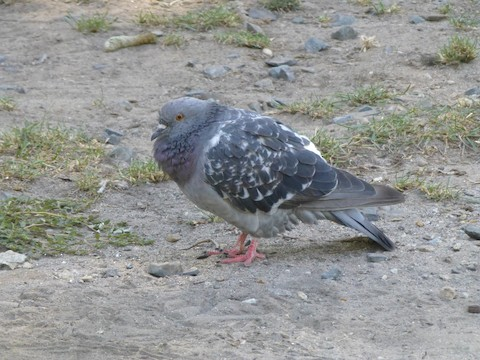pigeon: (149, 92, 408, 271)
